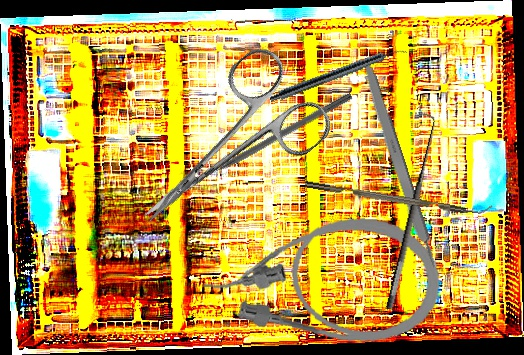Cannula: (199, 204, 446, 350)
Chopper: (304, 172, 493, 220)
Handpiece: (268, 42, 408, 107)
Hook Surgical: (370, 108, 444, 311)
Iris Scissors: (107, 39, 338, 260)
Pusher: (191, 90, 354, 186)
Scalpel Handle: (356, 56, 440, 271)
